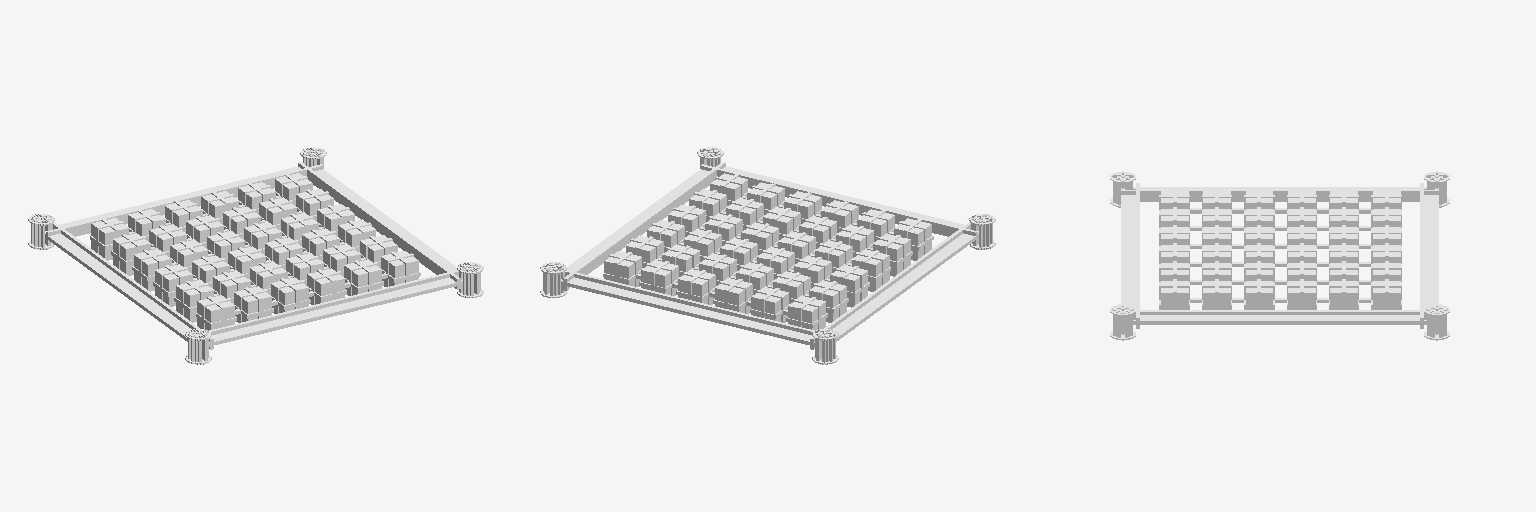
File: blue3.obj
The picture shows the model from 3 angles: view 1: azimuth 30°, elevation 25°; view 2: azimuth 150°, elevation 25°; view 3: azimuth 270°, elevation 25°; orthographic projection.
Parts seen in each view (by area): view 1: object 1; view 2: object 1; view 3: object 1.
Part boxes in pixels (x1,y1,x2,y2): object 1: (28,147,483,364); object 1: (540,147,995,364); object 1: (1110,171,1449,340).
Size of the model in its own units: 25.6 by 2.5 by 25.6.